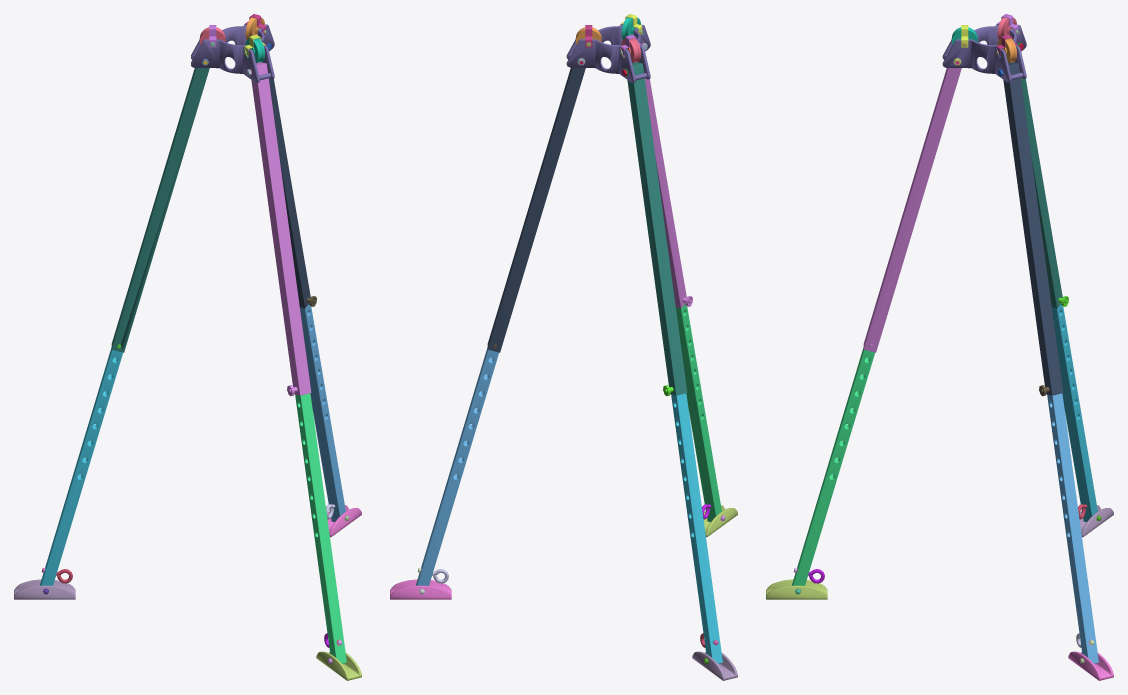
3 renders of one model, left to right at view 1: azimuth 30°, elevation 25°; view 2: azimuth 150°, elevation 25°; view 3: azimuth 270°, elevation 25°, orthographic.
Visible parts, largest first — view 1: split_parent_28, leg.1_beam.001_0, leg.i.004_beam.001_0, split_parent_29, leg.i.2_beam.001_0, split_parent_0, leg.2_beam.001_0, support.1_bolts.001_0, support.3_bolts.001_0; view 2: leg.1_beam.001_0, leg.2_beam.001_0, split_parent_29, leg.i.2_beam.001_0, leg.i.004_beam.001_0, split_parent_0, split_parent_28, support.2__0, support.1_bolts.001_0; view 3: leg.2_beam.001_0, split_parent_28, leg.i.2_beam.001_0, leg.i.004_beam.001_0, split_parent_29, split_parent_0, leg.1_beam.001_0, support.3_bolts.001_0, support.2__0.
Boxes of the visible parts, left/top/right/bottom form: split_parent_28: left=251, top=62, right=311, bottom=396; leg.1_beam.001_0: left=111, top=68, right=209, bottom=352; leg.i.004_beam.001_0: left=295, top=393, right=346, bottom=663; split_parent_29: left=40, top=347, right=122, bottom=585; leg.i.2_beam.001_0: left=300, top=304, right=345, bottom=522; split_parent_0: left=191, top=24, right=274, bottom=82; leg.2_beam.001_0: left=269, top=78, right=310, bottom=308; support.1_bolts.001_0: left=14, top=579, right=75, bottom=599; support.3_bolts.001_0: left=316, top=651, right=361, bottom=680; leg.1_beam.001_0: left=627, top=62, right=687, bottom=395; leg.2_beam.001_0: left=487, top=67, right=585, bottom=352; split_parent_29: left=671, top=393, right=722, bottom=663; leg.i.2_beam.001_0: left=416, top=347, right=498, bottom=585; leg.i.004_beam.001_0: left=676, top=304, right=721, bottom=522; split_parent_0: left=566, top=24, right=650, bottom=82; split_parent_28: left=645, top=78, right=692, bottom=308; support.2__0: left=390, top=579, right=451, bottom=599; support.1_bolts.001_0: left=692, top=651, right=737, bottom=680; leg.2_beam.001_0: left=1003, top=62, right=1063, bottom=395; split_parent_28: left=863, top=68, right=961, bottom=352; leg.i.2_beam.001_0: left=1047, top=393, right=1098, bottom=663; leg.i.004_beam.001_0: left=792, top=347, right=874, bottom=585; split_parent_29: left=1052, top=304, right=1097, bottom=522; split_parent_0: left=942, top=24, right=1026, bottom=82; leg.1_beam.001_0: left=1020, top=78, right=1062, bottom=308; support.3_bolts.001_0: left=766, top=579, right=827, bottom=599; support.2__0: left=1068, top=651, right=1113, bottom=680.
Bounding box in the file's own units: 0.6384 × 1 × 0.5531.
